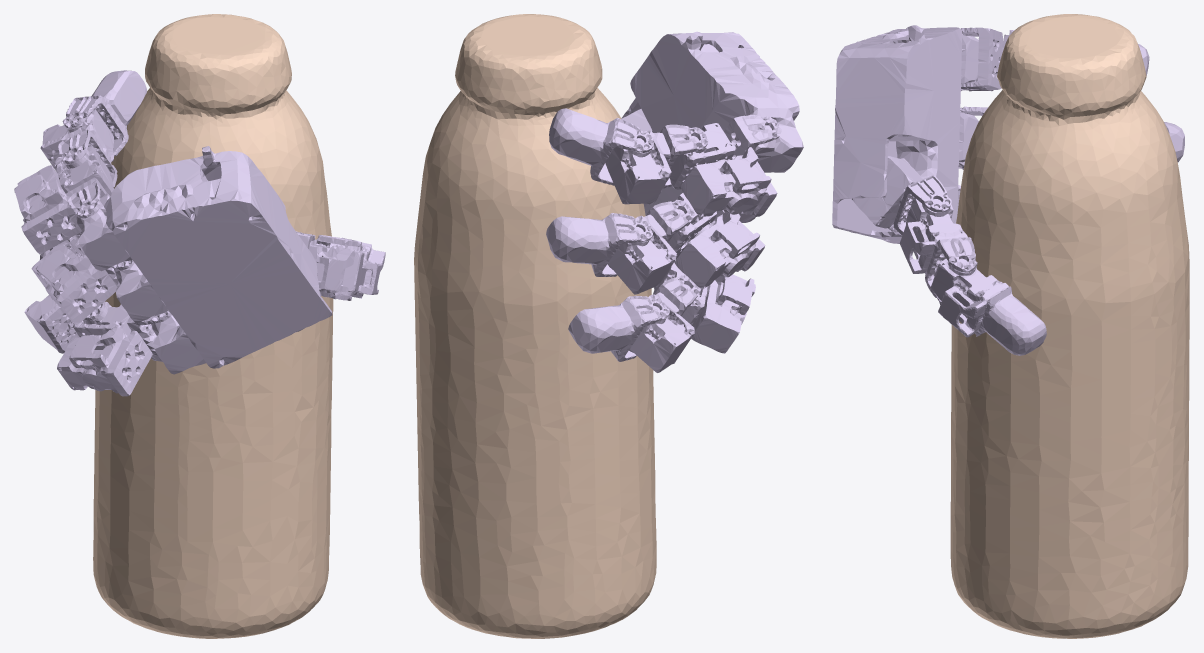
Rendered from c7091a20a4b299-closed.glb.
3 views of the same model, side by side, from view 1: azimuth 30°, elevation 25°; view 2: azimuth 150°, elevation 25°; view 3: azimuth 270°, elevation 25° (orthographic).
Visible parts, largest first — view 1: world, LEAP_hand; view 2: world, LEAP_hand; view 3: world, LEAP_hand.
Part boxes in pixels (x1=…): world: x1=93, y1=14, x2=333, y2=638; LEAP_hand: x1=14, y1=70, x2=385, y2=396; world: x1=414, y1=14, x2=656, y2=638; LEAP_hand: x1=546, y1=31, x2=803, y2=372; world: x1=950, y1=14, x2=1189, y2=638; LEAP_hand: x1=832, y1=25, x2=1184, y2=355.
Size of the model in its own units: 0.234 by 0.3595 by 0.2052.
